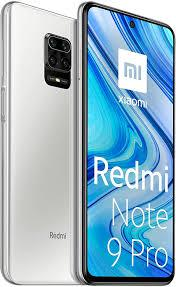Smartphone: (83, 13, 170, 283), (9, 11, 81, 286)
